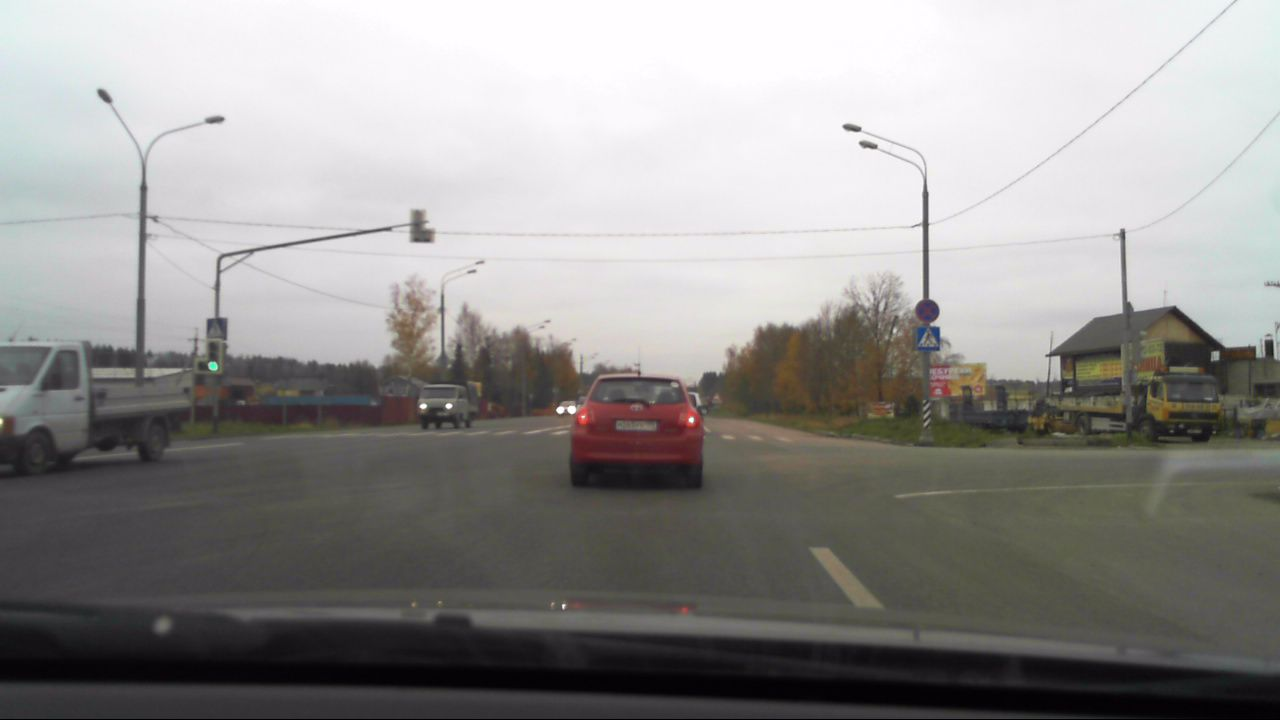No Parking: (912, 298, 942, 327)
